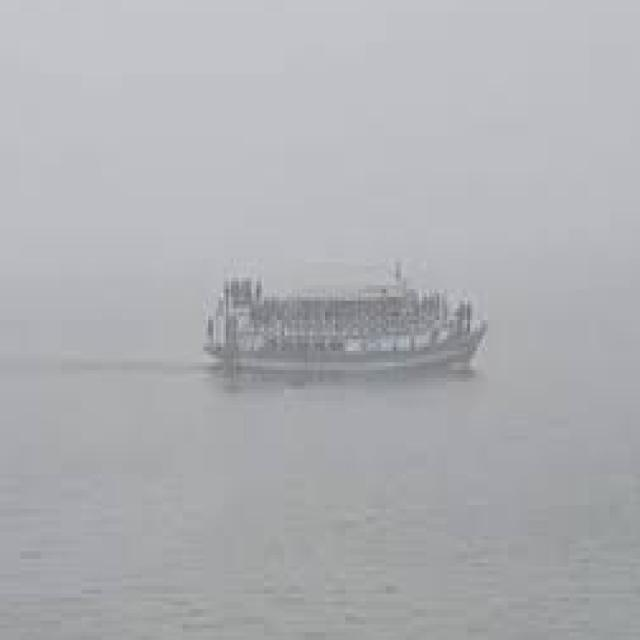passenger ship: (190, 238, 503, 378)
